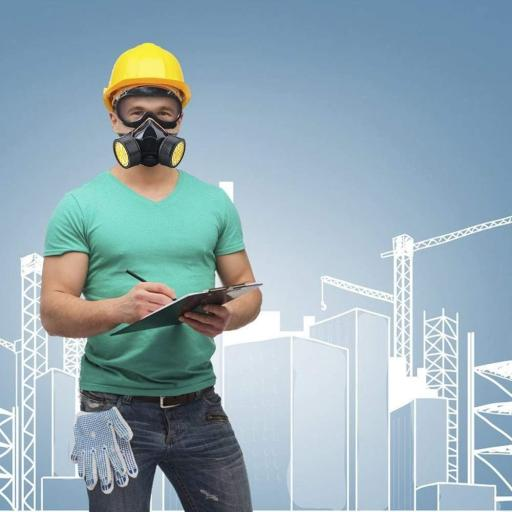mask: (108, 109, 207, 174)
